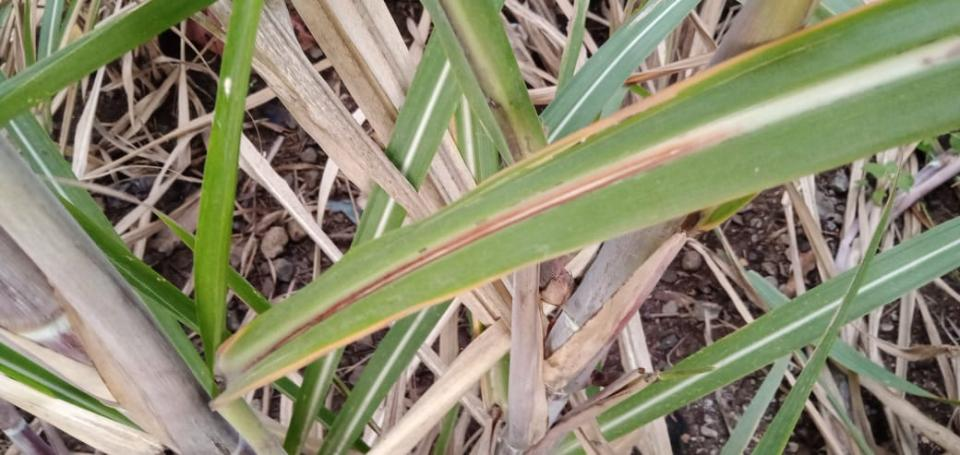RedRot: (240, 130, 732, 375), (920, 43, 959, 66)
Yellow: (474, 0, 887, 190), (211, 244, 591, 404)
